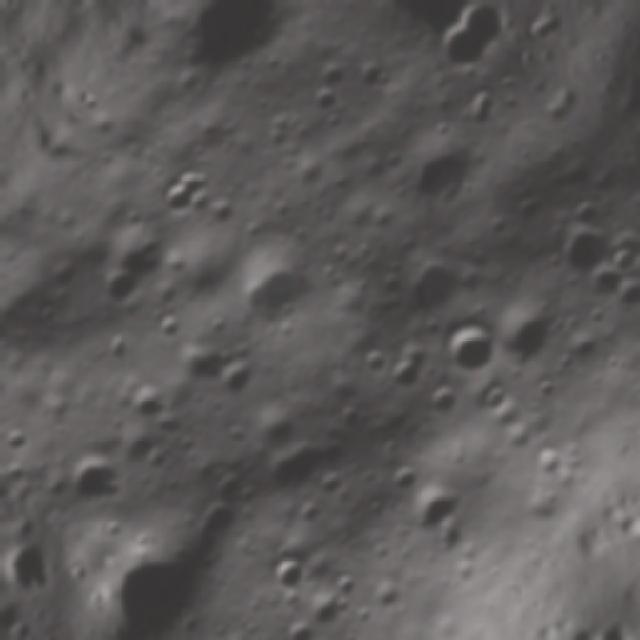crater: (223, 242, 322, 343), (162, 0, 282, 83), (402, 137, 480, 217), (393, 244, 469, 322), (418, 11, 497, 86), (258, 422, 333, 498), (53, 443, 129, 515), (397, 474, 469, 544), (437, 312, 506, 383), (487, 293, 556, 362), (544, 216, 614, 284), (148, 158, 207, 220), (88, 260, 146, 315), (386, 341, 437, 393), (207, 354, 258, 403), (190, 497, 239, 545), (122, 378, 170, 425), (490, 408, 536, 455), (265, 550, 310, 595), (380, 452, 425, 497), (456, 87, 498, 133), (476, 372, 519, 416), (585, 262, 627, 306), (363, 576, 406, 618), (527, 438, 568, 482), (147, 301, 190, 342), (603, 232, 640, 278), (307, 590, 347, 632), (511, 188, 551, 229), (328, 393, 368, 433), (212, 467, 252, 507), (328, 566, 368, 606), (357, 340, 395, 380), (609, 271, 640, 320), (0, 418, 34, 462), (424, 378, 462, 417), (290, 493, 328, 530), (363, 59, 400, 95), (98, 329, 134, 366), (316, 58, 352, 92), (580, 299, 614, 333), (206, 196, 240, 230), (306, 85, 340, 117), (317, 467, 348, 498), (532, 372, 562, 403), (620, 376, 640, 421), (0, 380, 11, 457), (182, 190, 212, 218), (491, 69, 518, 96), (319, 107, 346, 133), (81, 89, 107, 116), (468, 245, 492, 269)
